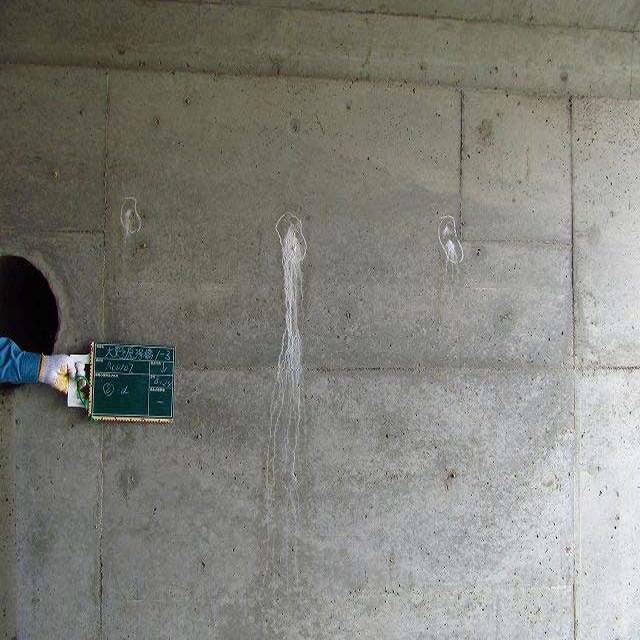freelime: (269, 213, 314, 484)
